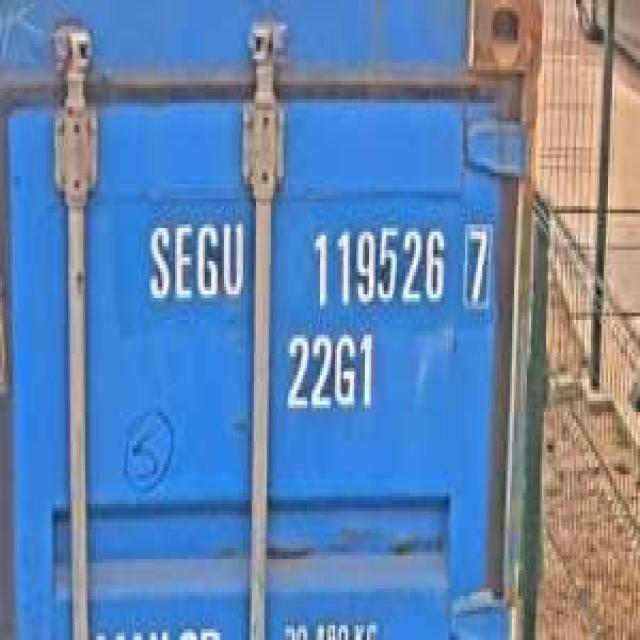dv: (461, 221, 493, 309)
owner: (141, 210, 245, 305)
serial: (307, 213, 446, 313)
size: (282, 324, 373, 416)
